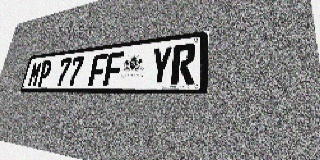7: (66, 56, 85, 86), (54, 57, 72, 87)
F: (103, 51, 124, 86), (88, 53, 108, 86)
M: (27, 61, 43, 87)
P: (36, 60, 53, 87)
R: (170, 43, 196, 85)
Y: (149, 46, 173, 85)
